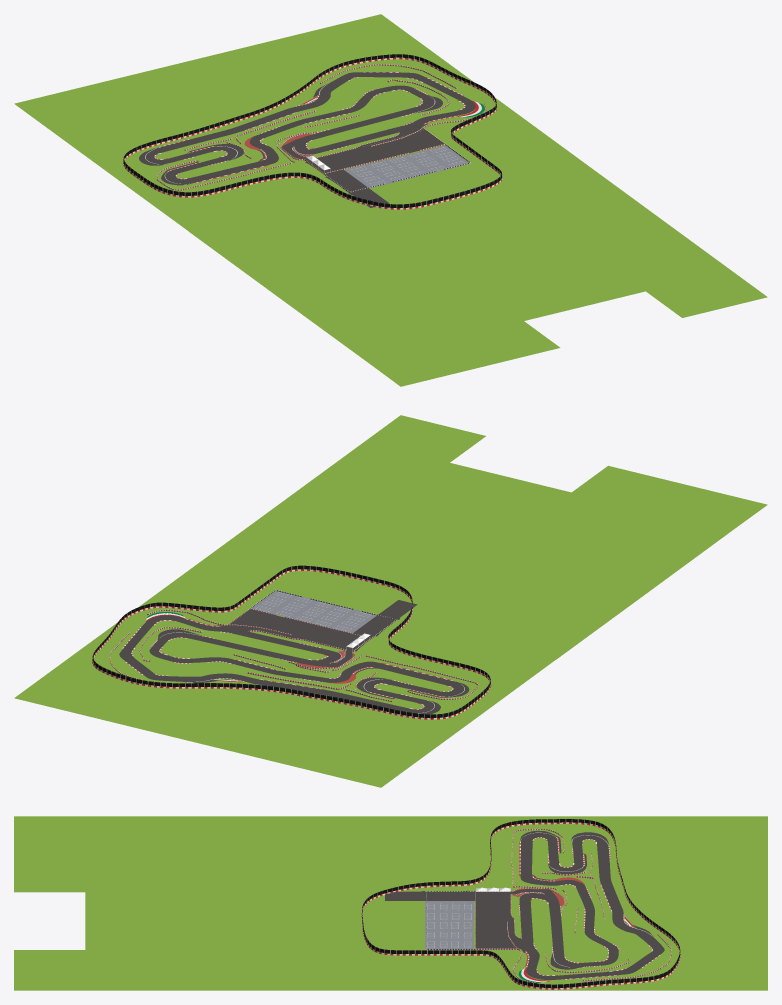
File: parking_lot2.glb
3 views of the same model, one above another, from view 1: azimuth 30°, elevation 25°; view 2: azimuth 150°, elevation 25°; view 3: azimuth 270°, elevation 25° (orthographic). The views are drawn at different scales.
Visible parts, largest first — view 1: Plane.009_standard_material_0.001, Plane.009, TRACK, Cube, TRACK.001, PARKING_PARKING_0.001, PARKING_PARKING_0.003, TRACK.001_Material.001_0.001; view 2: Plane.009_standard_material_0.001, Plane.009, TRACK, Cube, TRACK.001, PARKING_PARKING_0.003, PARKING_PARKING_0.001, TRACK.001_Material.001_0.001; view 3: Plane.009_standard_material_0.001, Plane.009, TRACK, Cube, TRACK.001, TRACK.001_Material.001_0.002, PARKING_PARKING_0.003, PARKING_PARKING_0.001, TRACK.001_Material.001_0.001, PARKING, PARKING_PARKING_0.002.
Boxes of the visible parts, <box> form: Plane.009_standard_material_0.001: <box>189,142,767,386</box>; Plane.009: <box>14,14,555,231</box>; TRACK: <box>139,72,484,185</box>; Cube: <box>123,54,502,209</box>; TRACK.001: <box>307,129,443,168</box>; PARKING_PARKING_0.001: <box>385,145,458,168</box>; PARKING_PARKING_0.003: <box>399,155,470,178</box>; TRACK.001_Material.001_0.001: <box>305,157,368,192</box>; Plane.009_standard_material_0.001: <box>189,415,767,659</box>; Plane.009: <box>14,570,555,787</box>; TRACK: <box>119,612,469,714</box>; Cube: <box>92,565,491,719</box>; TRACK.001: <box>230,609,352,651</box>; PARKING_PARKING_0.003: <box>264,591,334,614</box>; PARKING_PARKING_0.001: <box>252,599,323,622</box>; TRACK.001_Material.001_0.001: <box>335,615,395,651</box>; Plane.009_standard_material_0.001: <box>14,816,427,990</box>; Plane.009: <box>427,816,767,990</box>; TRACK: <box>511,830,664,982</box>; Cube: <box>361,819,680,989</box>; TRACK.001: <box>475,892,514,948</box>; TRACK.001_Material.001_0.002: <box>385,890,468,900</box>; PARKING_PARKING_0.003: <box>425,920,449,949</box>; PARKING_PARKING_0.001: <box>450,921,473,948</box>; TRACK.001_Material.001_0.001: <box>424,891,508,900</box>; PARKING: <box>450,901,474,921</box>; PARKING_PARKING_0.002: <box>425,901,449,921</box>.
Bounding box in the file's own units: 63.26 × 1.12 × 115.
Materials: 9 (8 with a texture image).
